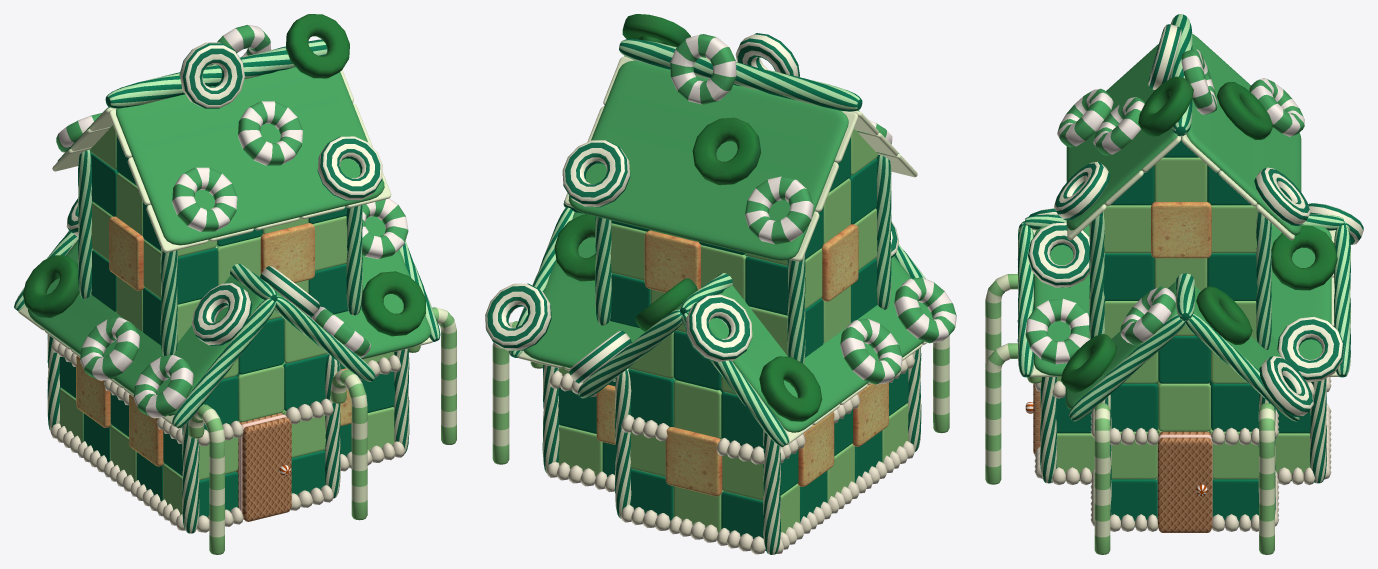
Rendered from cw_house_27.fbx.
3 renders of one model, left to right at view 1: azimuth 30°, elevation 25°; view 2: azimuth 150°, elevation 25°; view 3: azimuth 270°, elevation 25°, orthographic. The views are drawn at different scales.
Visible parts, largest first — view 1: cw_house_27; view 2: cw_house_27; view 3: cw_house_27.
Boxes of the visible parts, x1=… form: cw_house_27: x1=14, y1=14, x2=456, y2=554; cw_house_27: x1=485, y1=14, x2=956, y2=554; cw_house_27: x1=985, y1=14, x2=1363, y2=554.
Bounding box in the file's own units: 799 × 963 × 775.
